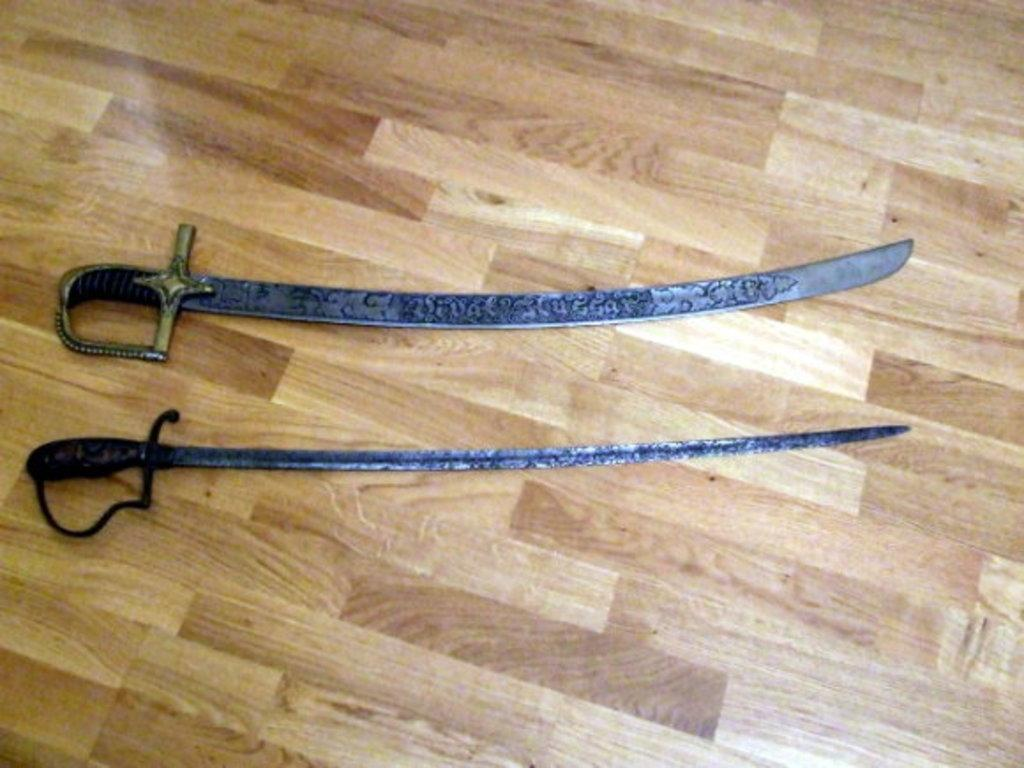Sword: (55, 219, 911, 360), (23, 411, 909, 538)
